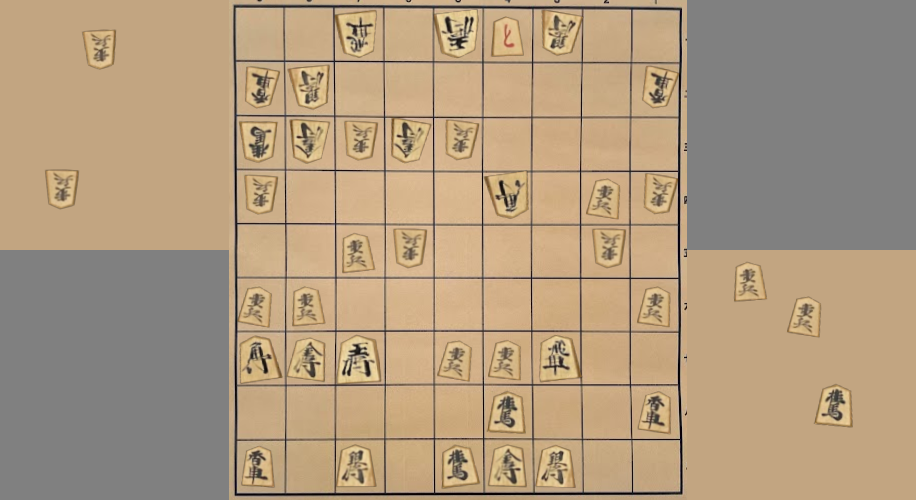A: (338, 337, 380, 383), (540, 336, 580, 382), (240, 337, 280, 383), (288, 339, 325, 382), (337, 446, 375, 487), (442, 446, 479, 488), (537, 446, 574, 488), (490, 446, 526, 487), (489, 393, 524, 433), (637, 392, 671, 433), (586, 180, 621, 219), (438, 342, 471, 381), (292, 288, 324, 326), (638, 287, 669, 326), (240, 288, 271, 327), (243, 447, 273, 487), (493, 18, 523, 57), (489, 342, 520, 379), (343, 235, 373, 273)
B: (436, 11, 478, 58), (486, 172, 528, 218), (336, 11, 377, 58), (290, 66, 328, 109), (544, 12, 582, 55), (392, 119, 429, 162), (291, 120, 328, 162), (241, 122, 276, 162), (644, 67, 678, 108), (246, 67, 279, 107), (645, 174, 677, 214), (394, 229, 426, 268), (593, 229, 625, 268), (446, 121, 478, 160), (245, 176, 277, 214), (346, 121, 377, 160)
C: (815, 385, 852, 427), (734, 262, 767, 302), (788, 297, 821, 337)
D: (45, 170, 78, 209), (83, 30, 115, 69)
